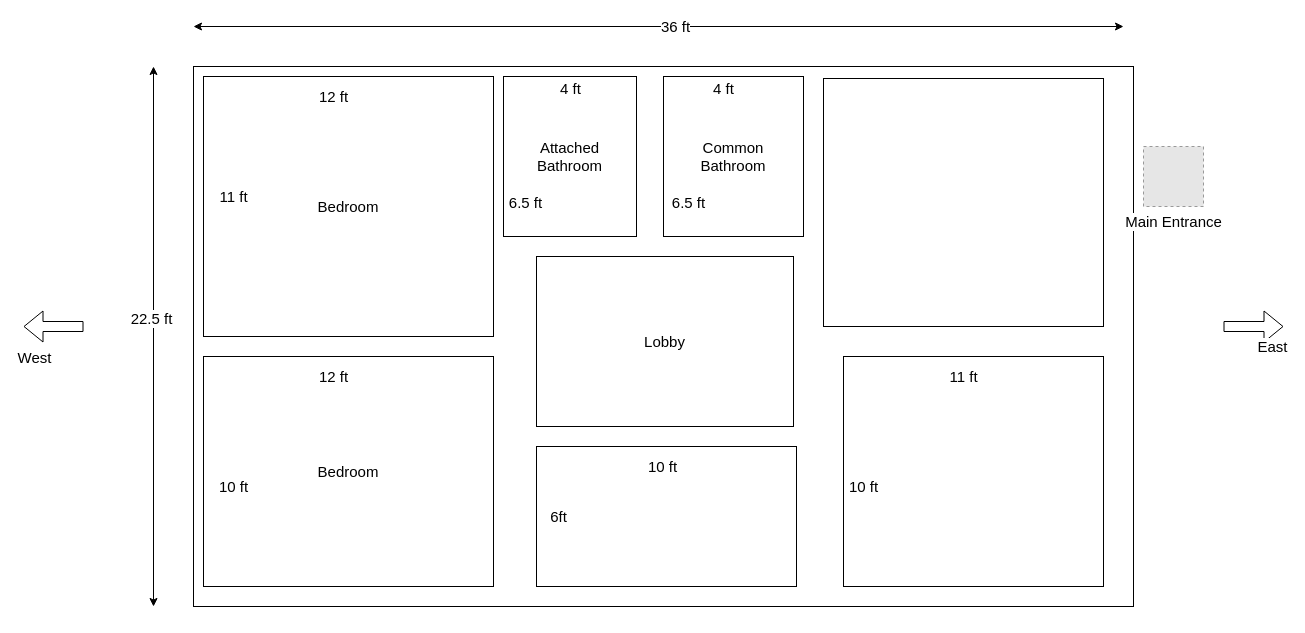
Some shapes in this 1305 by 633 pixel diagram are drawn without their labels. Grey dashed boxes stand in for pictures. Here are the shapes that lost their labels. From the top down, the box of each, then its label:
(822, 78, 1104, 326): staircase + porch
(842, 356, 1104, 586): Drawing Room
(536, 446, 796, 586): Kitchen
